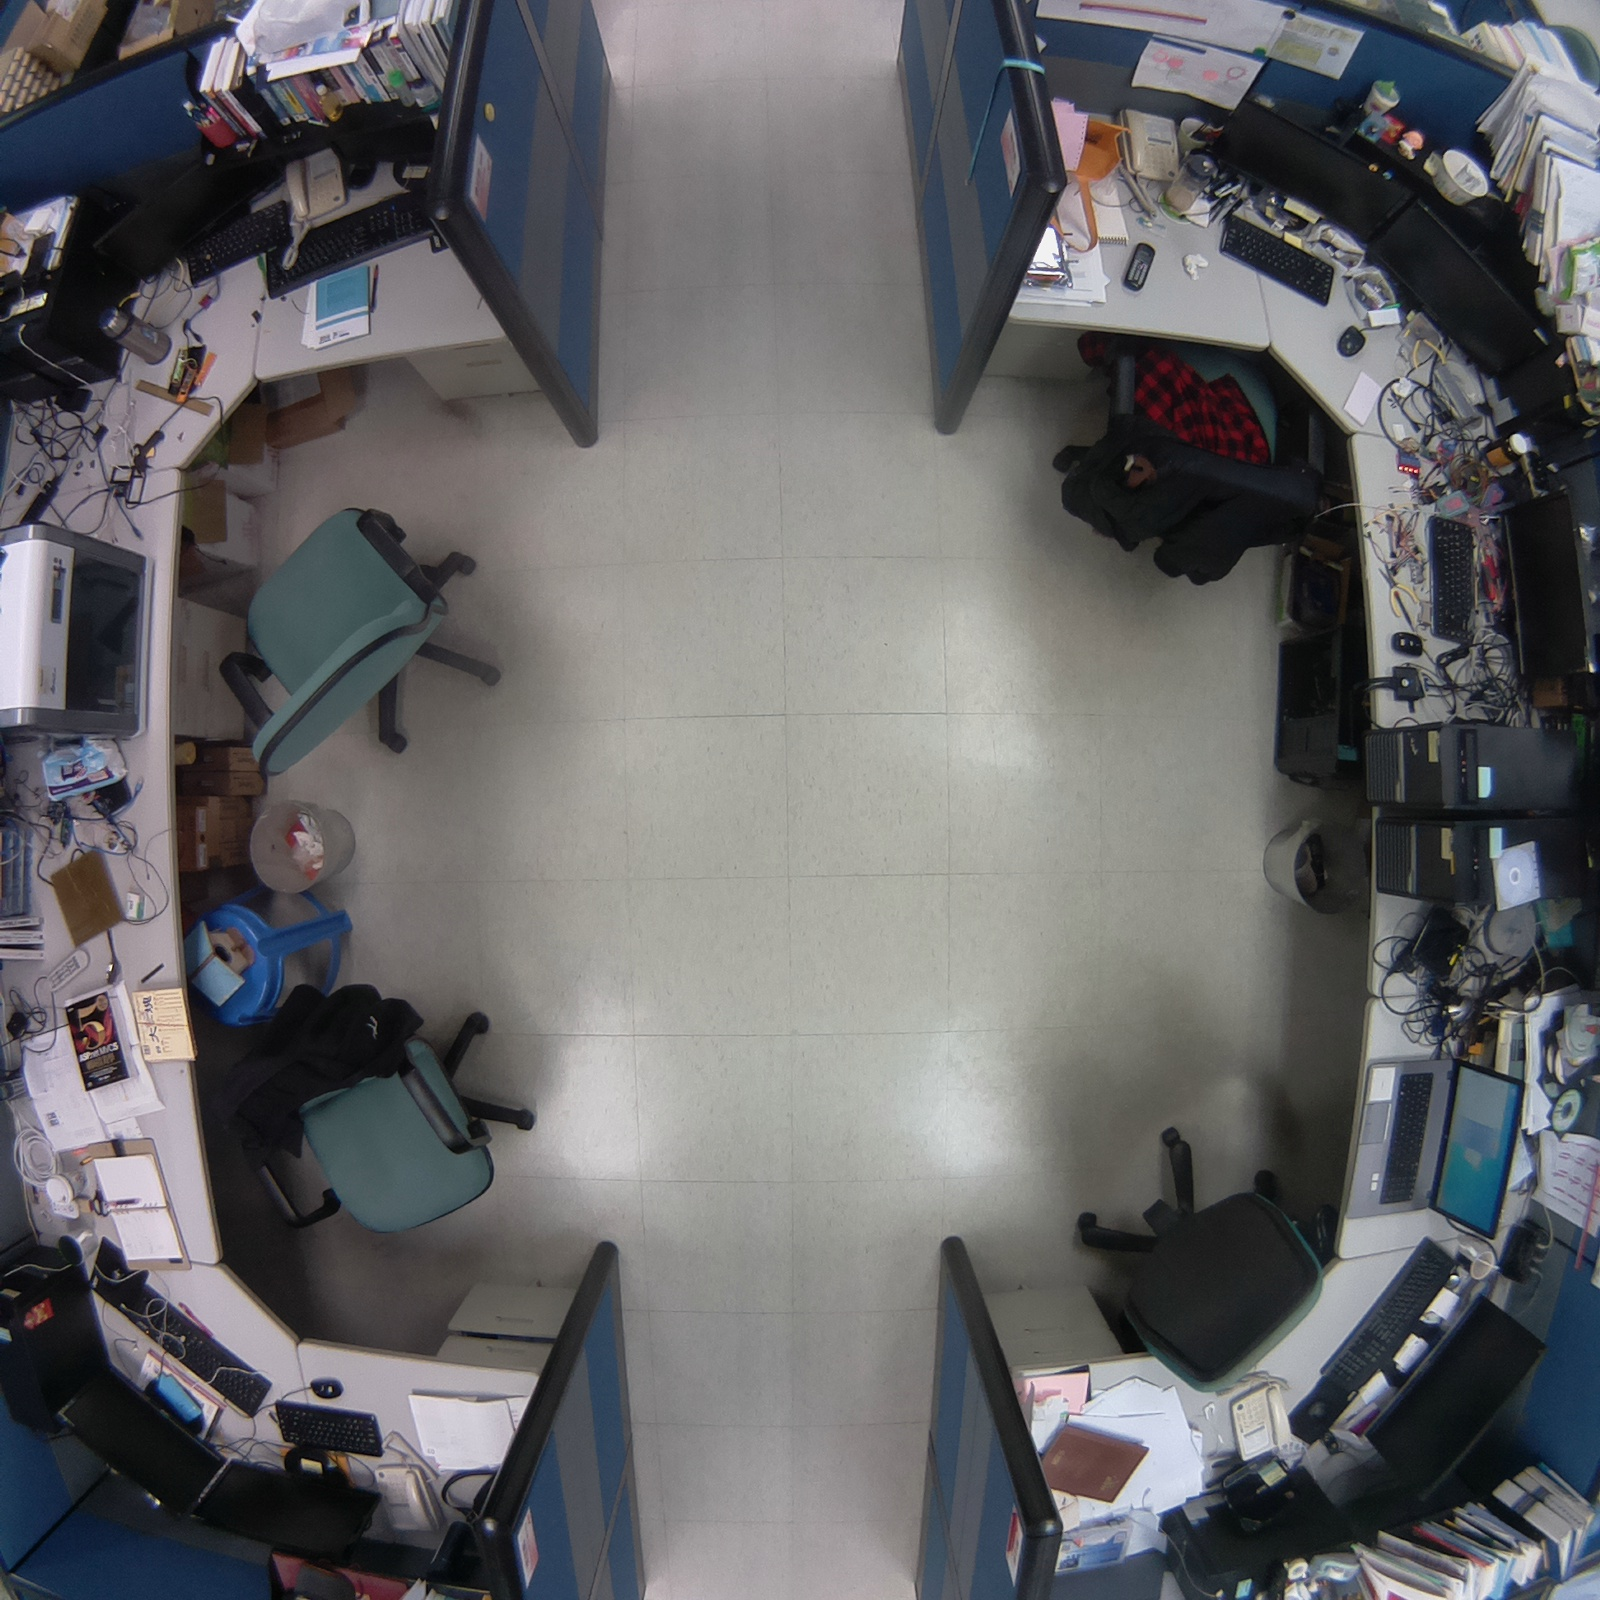chair: (201, 484, 522, 799), (204, 980, 552, 1256), (1032, 309, 1344, 602), (1053, 1100, 1339, 1410)
